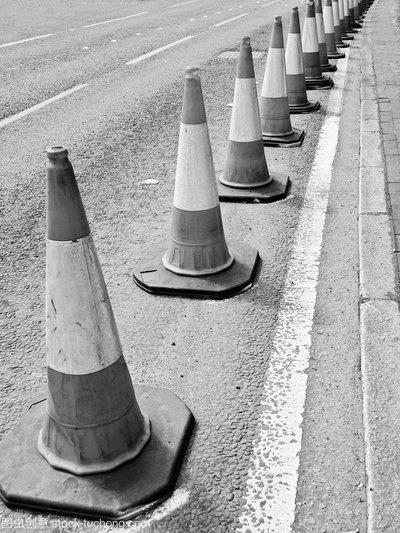cone_barrel: (33, 144, 151, 472), (162, 66, 233, 273), (218, 34, 273, 189), (254, 13, 294, 136), (283, 5, 309, 106), (297, 0, 322, 80), (312, 0, 328, 66), (321, 0, 337, 55)
